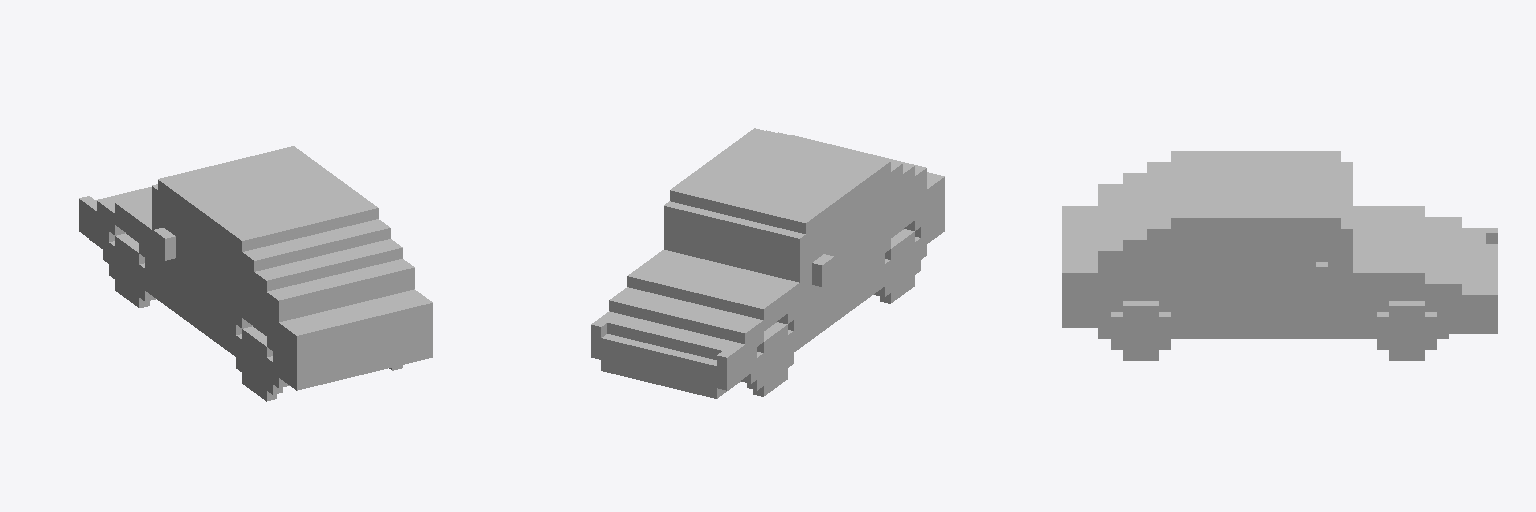
The model's file is red car.obj.
The picture shows the model from 3 angles: view 1: azimuth 30°, elevation 25°; view 2: azimuth 150°, elevation 25°; view 3: azimuth 270°, elevation 25°; orthographic projection.
Visible parts, largest first — view 1: object 1; view 2: object 1; view 3: object 1.
Part boxes in pixels (left/top/right/bottom): object 1: left=79, top=146, right=432, bottom=401; object 1: left=591, top=128, right=944, bottom=398; object 1: left=1062, top=151, right=1497, bottom=360.
Bounding box in the file's own units: 1.5 × 1.3 × 3.6.